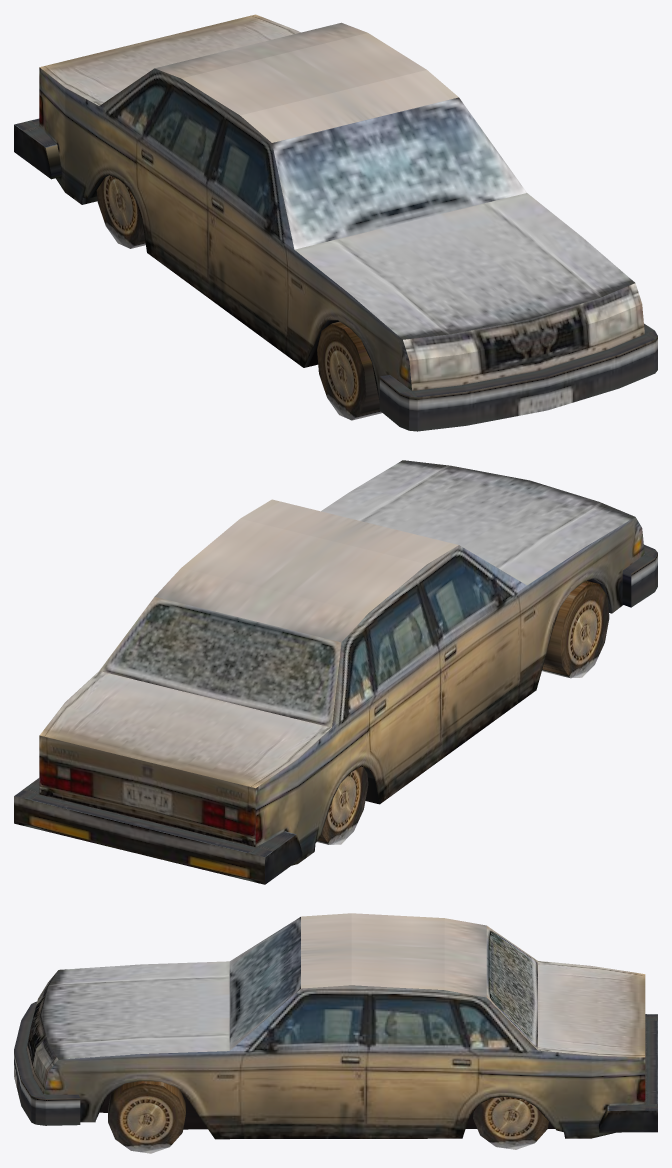
File: volvo.fbx
The picture shows the model from 3 angles, top to bottom: view 1: azimuth 30°, elevation 25°; view 2: azimuth 150°, elevation 25°; view 3: azimuth 270°, elevation 25°; orthographic projection. The views are drawn at different scales.
Parts seen in each view (by area): view 1: Plane; view 2: Plane; view 3: Plane.
Boxes of the visible parts, <box> form: Plane: <box>14,14,657,431</box>; Plane: <box>14,460,657,884</box>; Plane: <box>14,913,657,1153</box>.
Size of the model in its own units: 804 by 601 by 2226.
